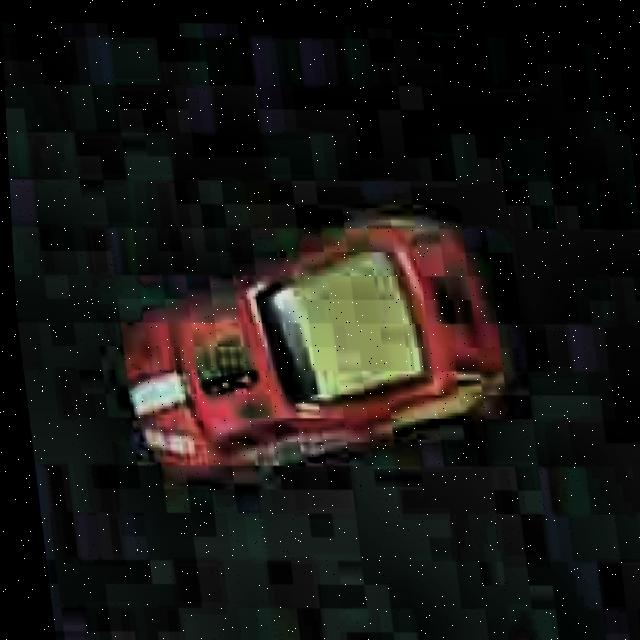car: (88, 177, 533, 514)
